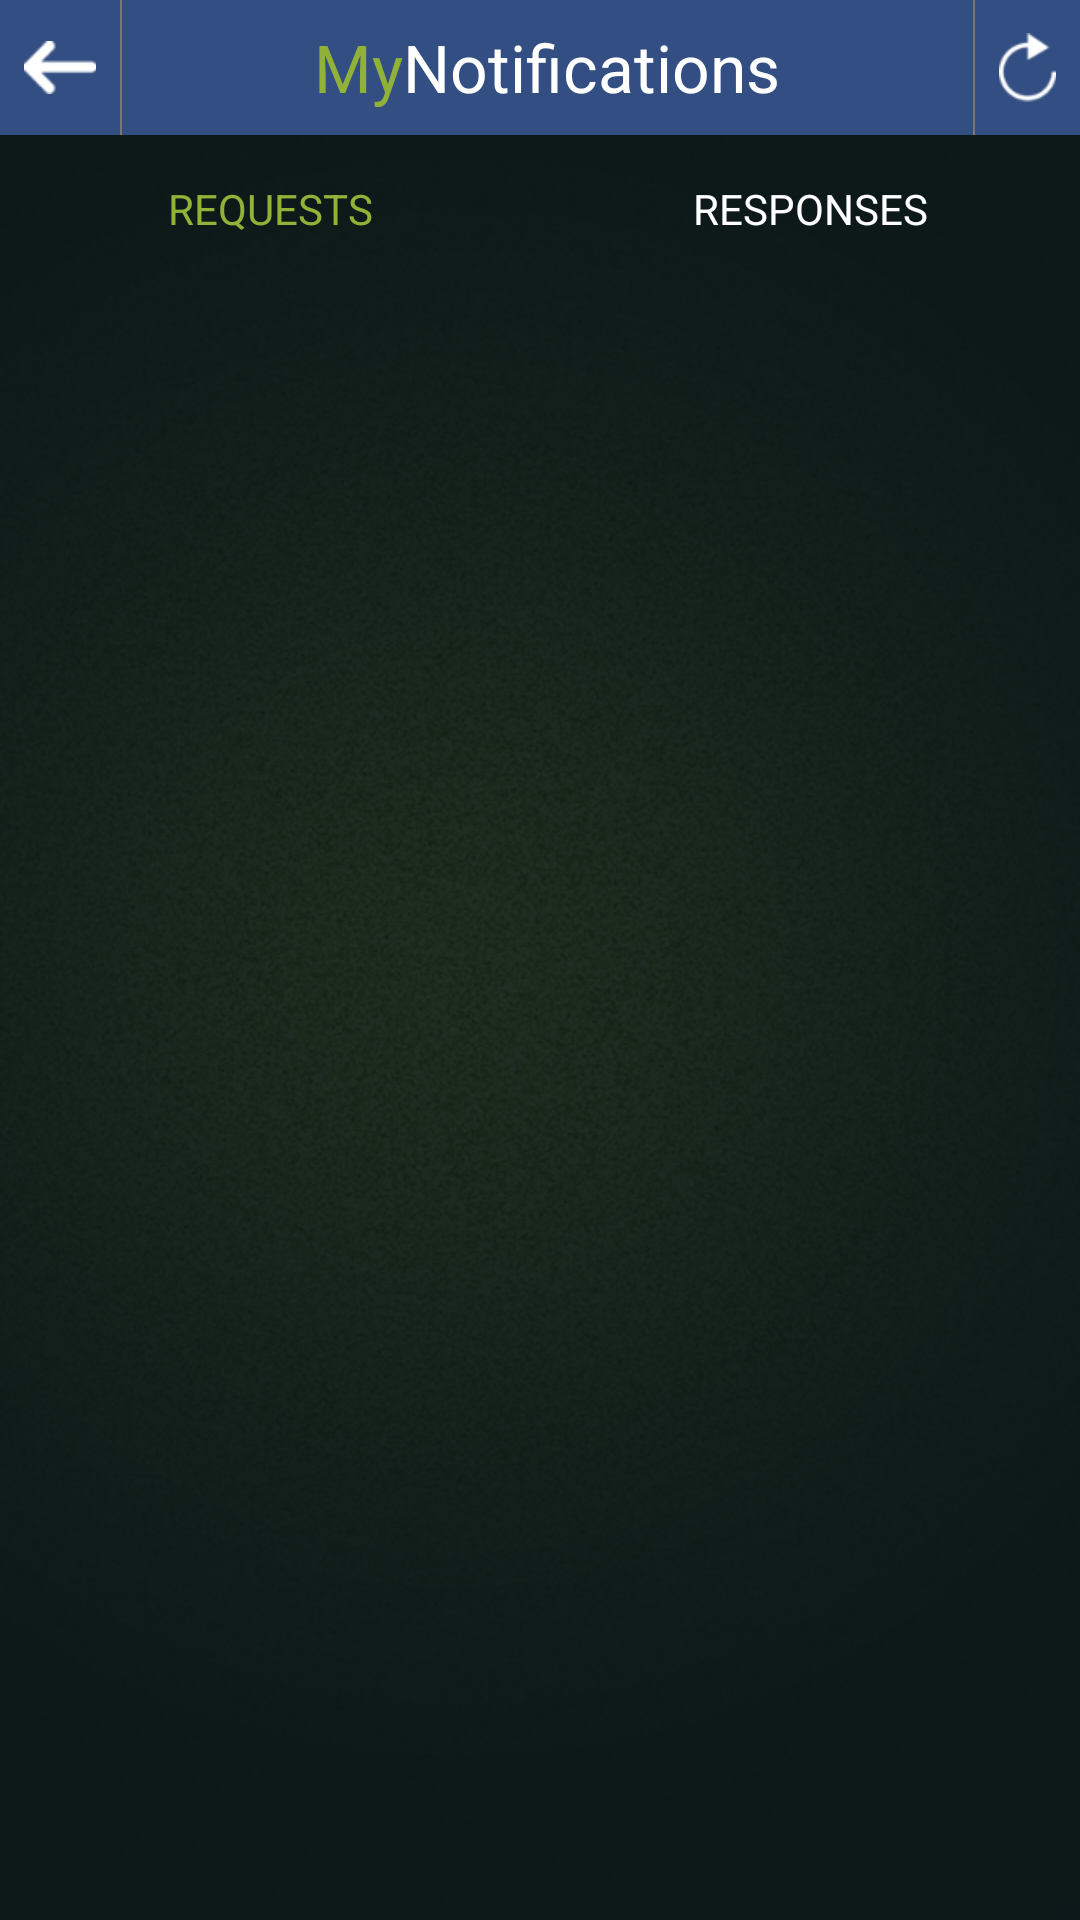

Icons on this 1080px×1920px Android screen, each with its box as (x1, y1, x2, y2):
back: (24, 41, 96, 94)
refresh: (999, 33, 1056, 102)
